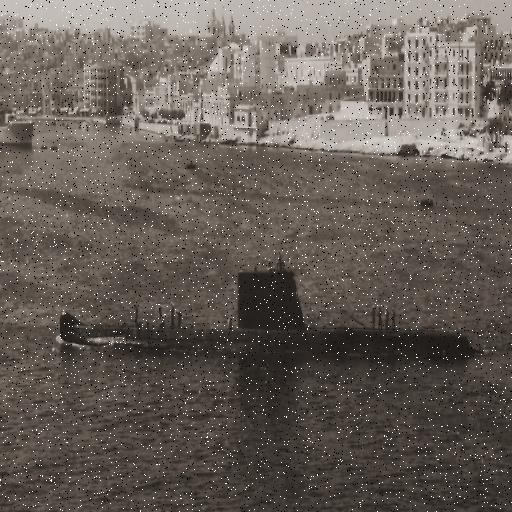submarine: (61, 252, 475, 359)
